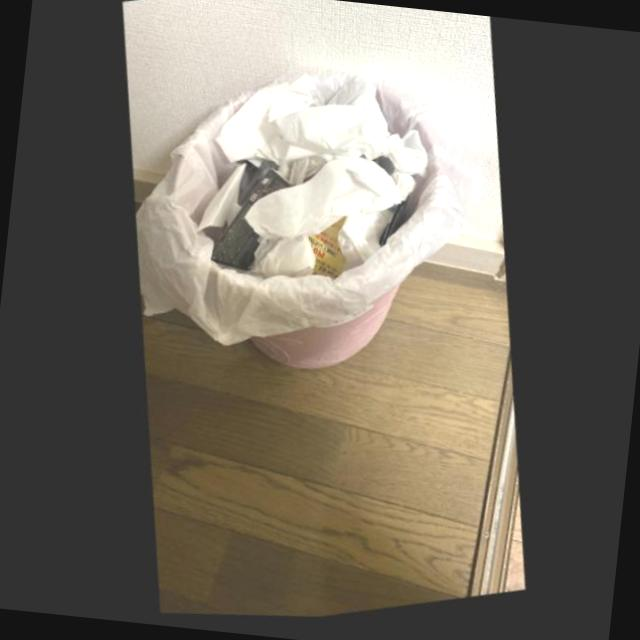carton: (210, 173, 291, 275)
giay: (215, 79, 427, 180), (244, 162, 415, 244), (337, 215, 392, 277), (196, 167, 246, 235), (247, 240, 315, 283)
